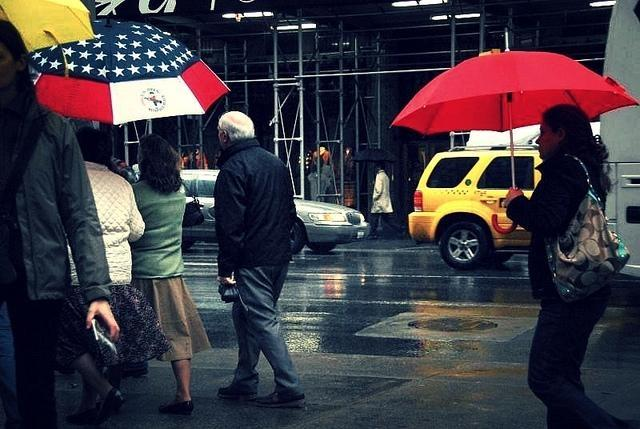car: (179, 167, 369, 257), (409, 145, 526, 271)
